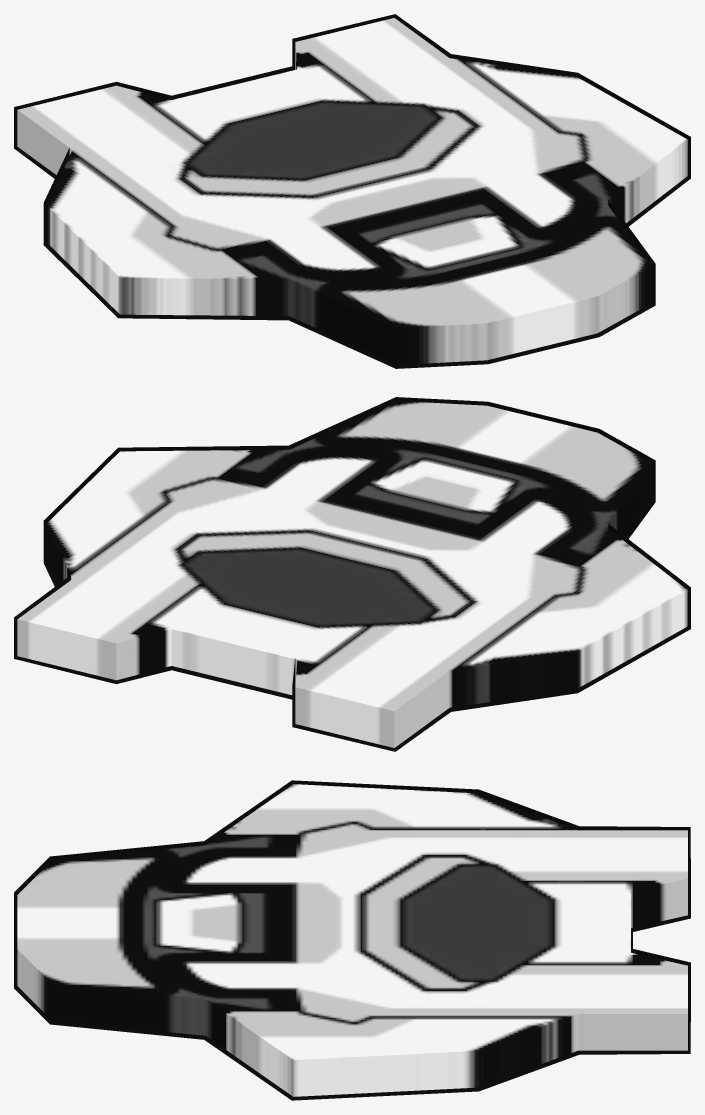
File: Item_Apparel_ArmorCataphract_Things_Pawn_Humanlike_Apparel_CataphractArmor_CataphractArmor_Male.glb
3 renders of one model, top to bottom at view 1: azimuth 30°, elevation 25°; view 2: azimuth 150°, elevation 25°; view 3: azimuth 270°, elevation 25°, orthographic.
Parts seen in each view (by area): view 1: Body, Outline; view 2: Body, Outline; view 3: Body, Outline.
Part boxes in pixels (left/top/right/bottom): Body: left=17, top=18, right=687, bottom=364; Outline: left=14, top=14, right=690, bottom=368; Body: left=17, top=401, right=687, bottom=747; Outline: left=14, top=397, right=690, bottom=751; Body: left=17, top=784, right=687, bottom=1096; Outline: left=14, top=780, right=690, bottom=1100.
Bounding box in the file's own units: 1.18 × 0.0854 × 1.21.
2 materials, 1 textured.
